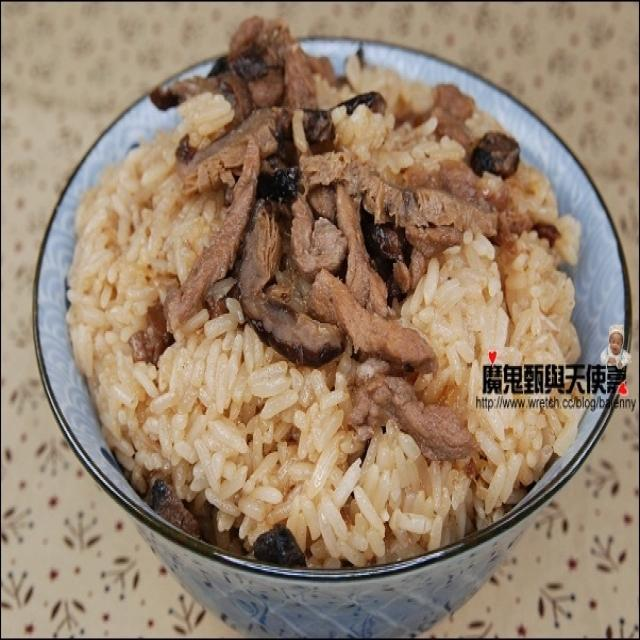米饭主食: (53, 33, 611, 605)
